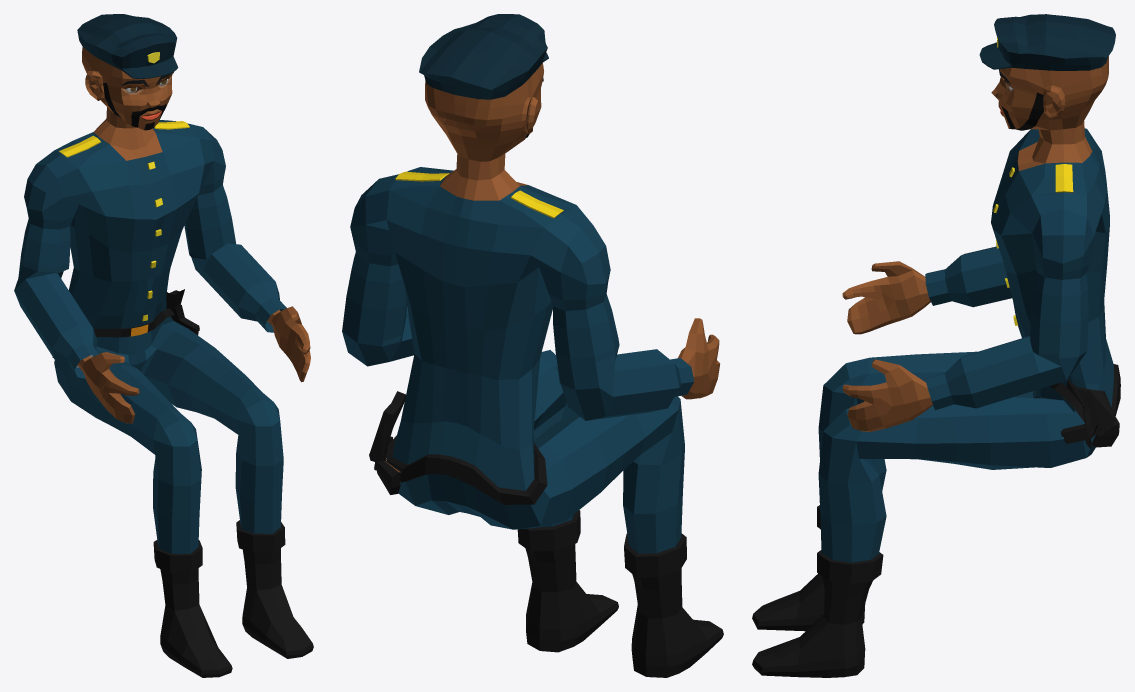
Rendered from Police_Sit.fbx.
3 views of the same model, side by side, from view 1: azimuth 30°, elevation 25°; view 2: azimuth 150°, elevation 25°; view 3: azimuth 270°, elevation 25° (orthographic). The views are drawn at different scales.
Parts seen in each view (by area): view 1: Police_Sit; view 2: Police_Sit; view 3: Police_Sit.
Boxes of the visible parts, box(x1,y1,x2,y2) form: Police_Sit: box(14, 14, 313, 677); Police_Sit: box(342, 14, 723, 677); Police_Sit: box(752, 14, 1120, 677).
Bounding box in the file's own units: 0.3759 × 0.8661 × 0.4637.
